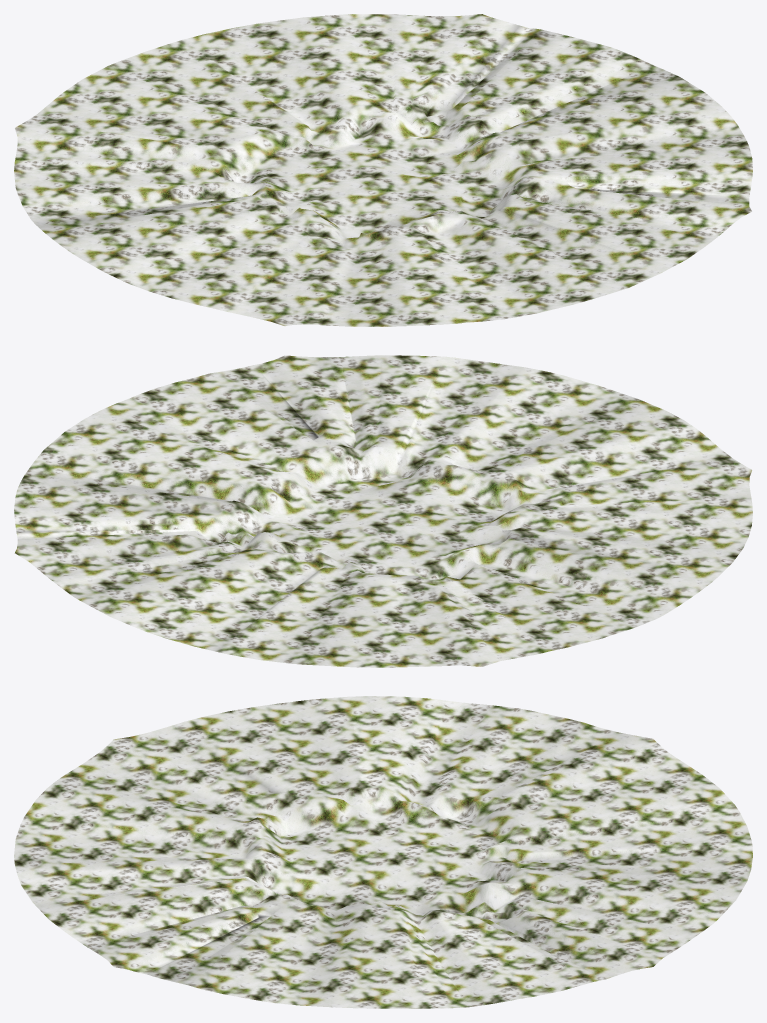
Rendered from ENVO_GrassHills_Snow.obj.
3 renders of one model, top to bottom at view 1: azimuth 30°, elevation 25°; view 2: azimuth 150°, elevation 25°; view 3: azimuth 270°, elevation 25°, orthographic.
Visible parts, largest first — view 1: GrassHillsSnow; view 2: GrassHillsSnow; view 3: GrassHillsSnow.
Part boxes in pixels (x1=…): GrassHillsSnow: x1=14, y1=14, x2=752, y2=326; GrassHillsSnow: x1=14, y1=355, x2=752, y2=667; GrassHillsSnow: x1=14, y1=696, x2=752, y2=1008.
Size of what is drawn, in the model's own units: 19998 by 653 by 19998.
Materials: 2 (2 with a texture image).
